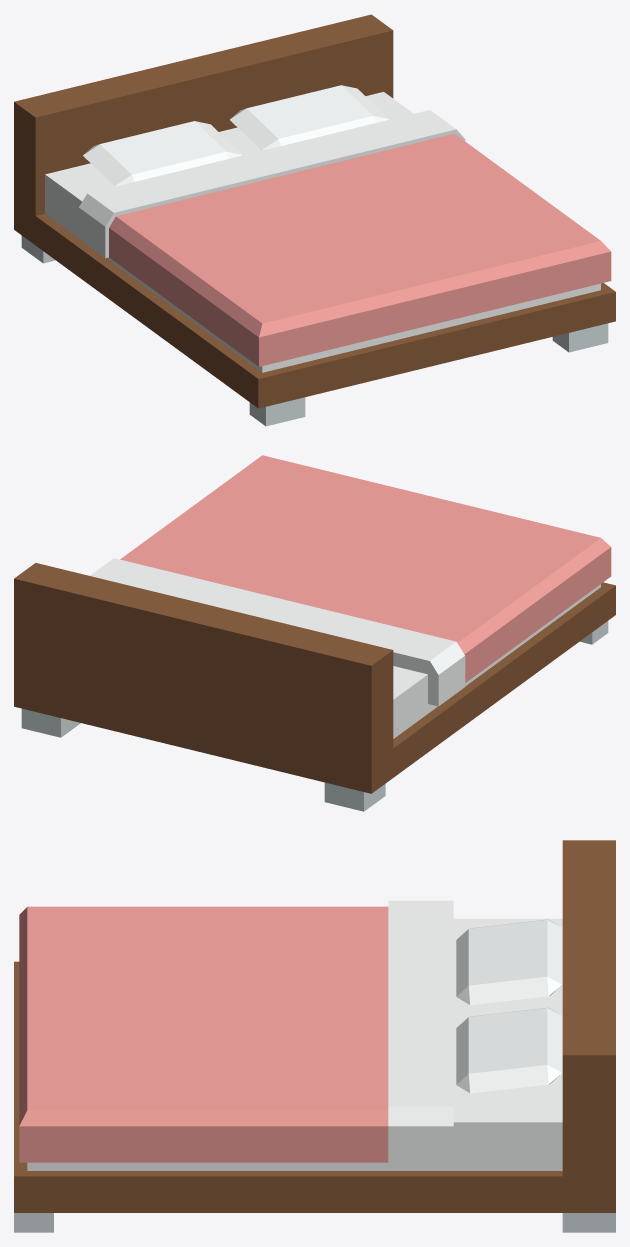
File: m_bed_double.glb
3 views of the same model, one above another, from view 1: azimuth 30°, elevation 25°; view 2: azimuth 150°, elevation 25°; view 3: azimuth 270°, elevation 25° (orthographic). The views are drawn at different scales.
Parts seen in each view (by area): view 1: cover, Mesh bedDouble, pillowRight, pillowLeft; view 2: Mesh bedDouble, cover; view 3: cover, Mesh bedDouble, pillowRight, pillowLeft.
Boxes of the visible parts, x1,y1,x2,y2 form: cover: (78,110,611,366); Mesh bedDouble: (14,14,615,426); pillowRight: (230,85,388,150); pillowLeft: (83,121,241,186); Mesh bedDouble: (14,563,615,811); cover: (90,455,611,706); cover: (19,900,453,1164); Mesh bedDouble: (14,840,615,1232); pillowRight: (456,1007,562,1093); pillowLeft: (456,919,562,1005).
Size of the model in its own units: 1.84 by 0.7199 by 2.16.
